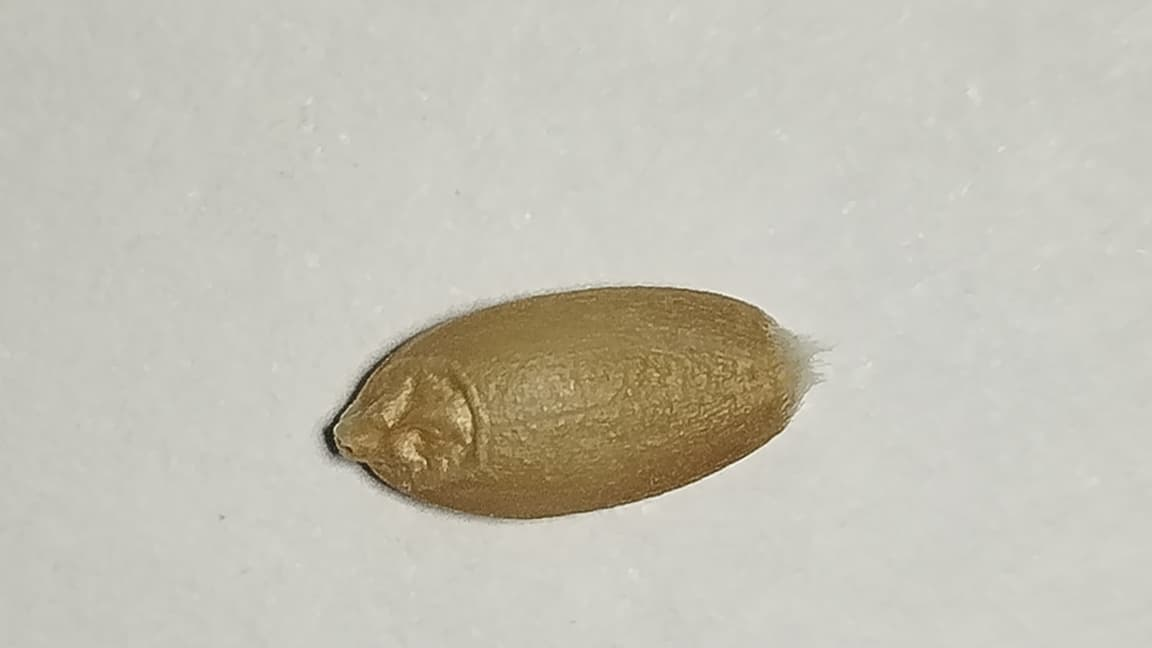healthy: (320, 284, 817, 526)
